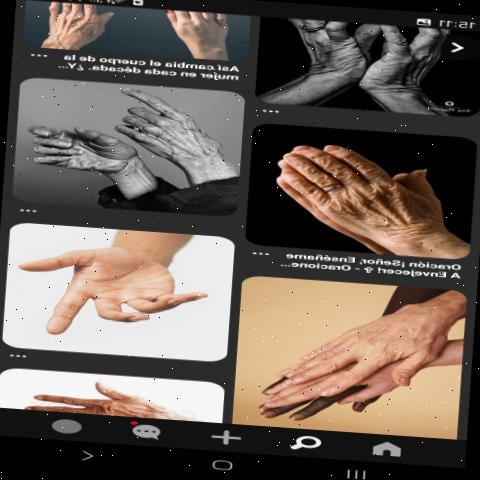Hands: (12, 242, 211, 340), (266, 136, 446, 242), (277, 294, 461, 392), (98, 89, 227, 170), (20, 127, 135, 189)
